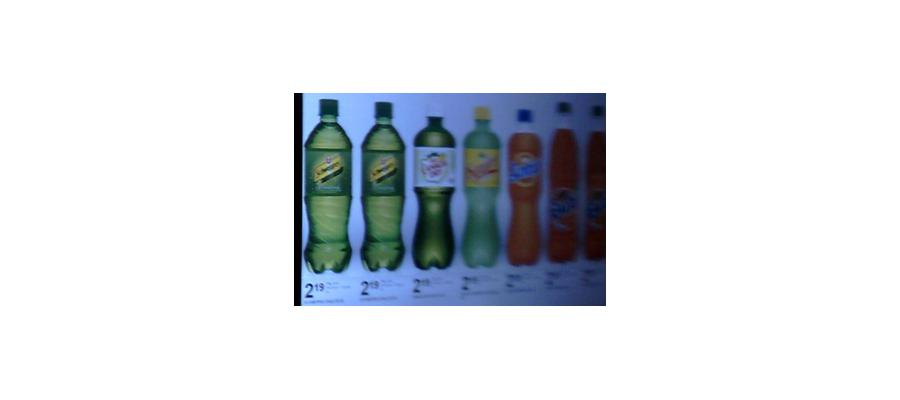bottle: (357, 98, 408, 274), (543, 105, 598, 268), (302, 98, 352, 277), (408, 118, 459, 267), (461, 103, 505, 265), (502, 124, 546, 270)
